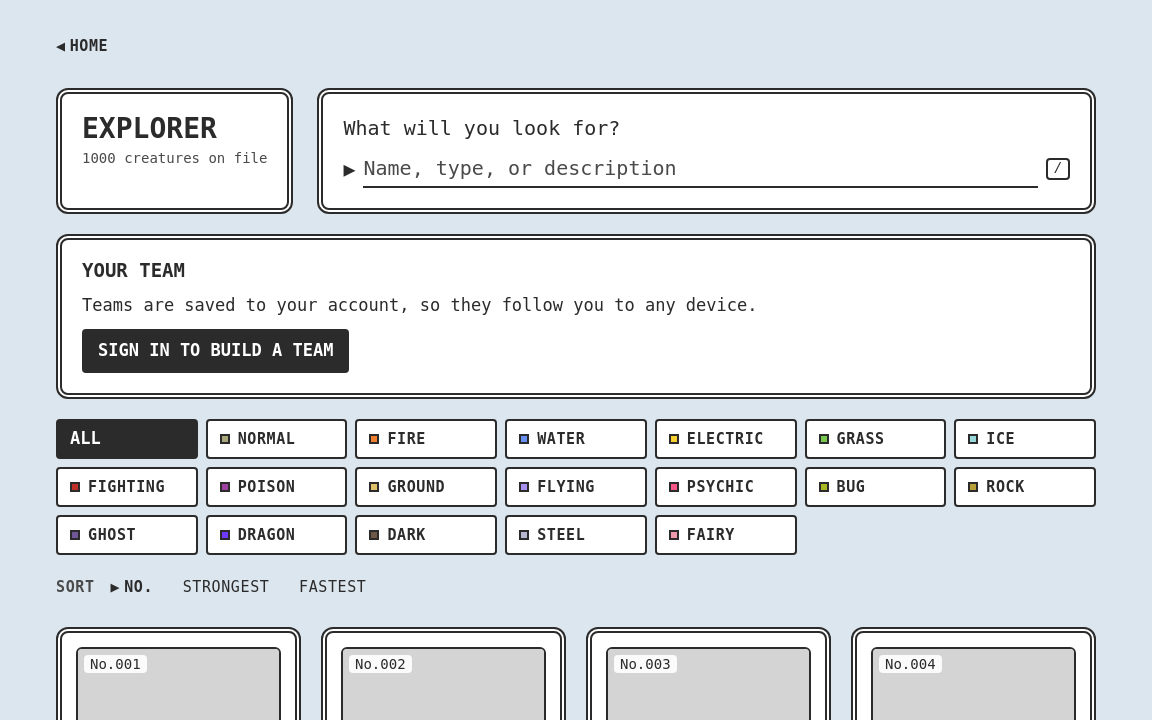
ExplorerScreen › debounces search and announces the result count
The width and height of the screenshot is (1152, 720).
In the search field labelled "What will you look for?": (701, 169) [364,150,1038,188], type "vel"
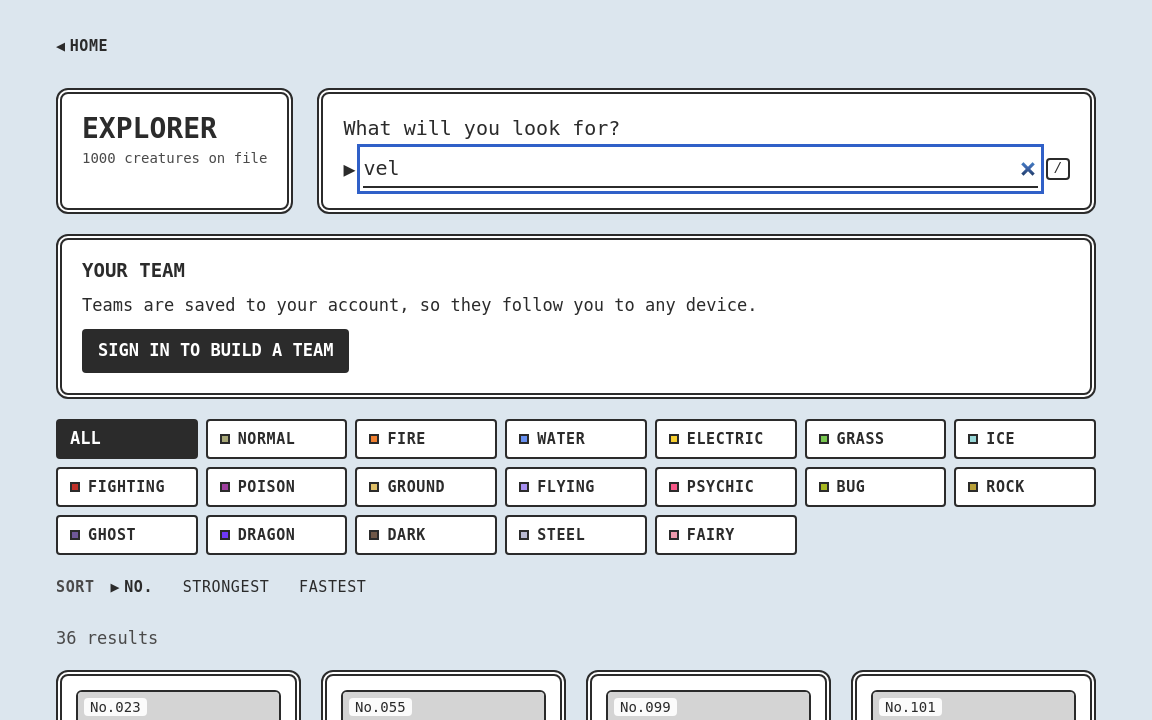
Check: the text "36 results" is shown, box [56,628,158,648]
